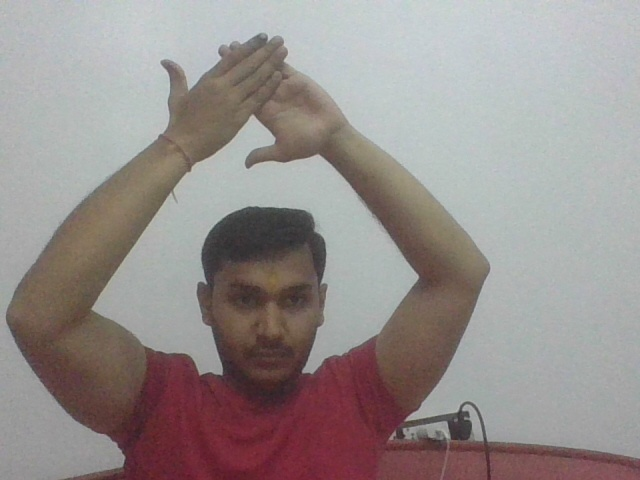H: (162, 33, 346, 169)
